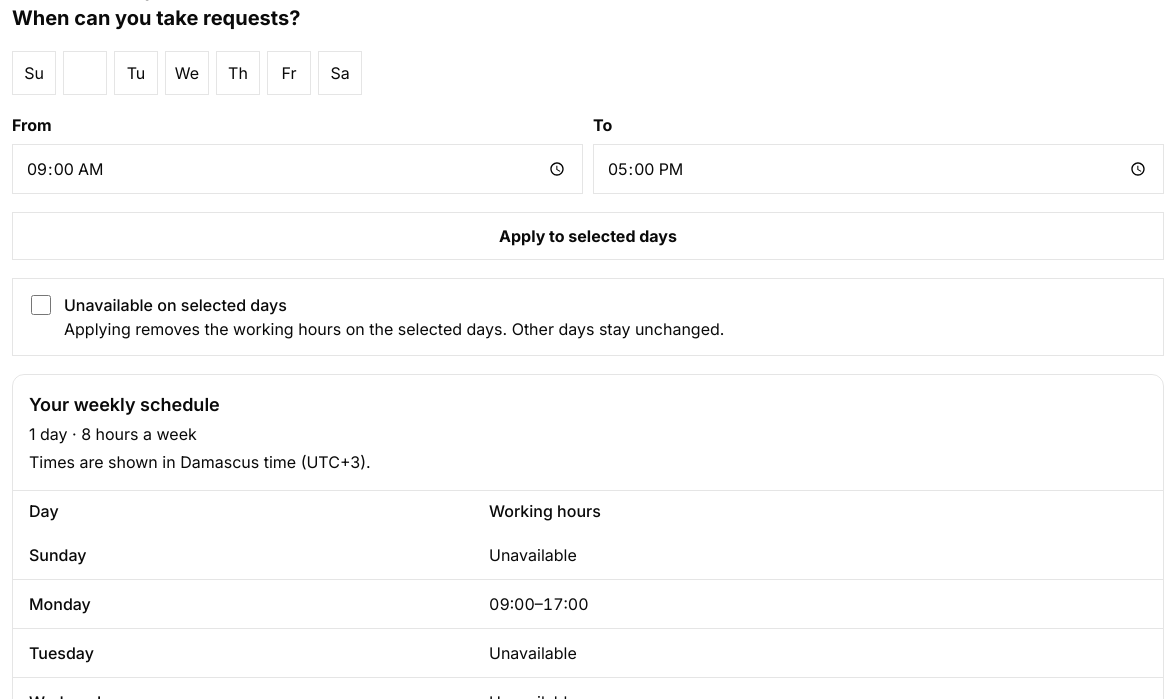
Test: working hours — the applied week belongs to the provider until it is acknowledged › an older answer arriving after the acknowledgement does not restore the old week
Expected: the row with test id "availability-summary-day-1" is shown, top-left (13, 580), bottom-right (1163, 628)
Click the button "Tu". click: (136, 73)
box: top-left (114, 51), bottom-right (158, 95)
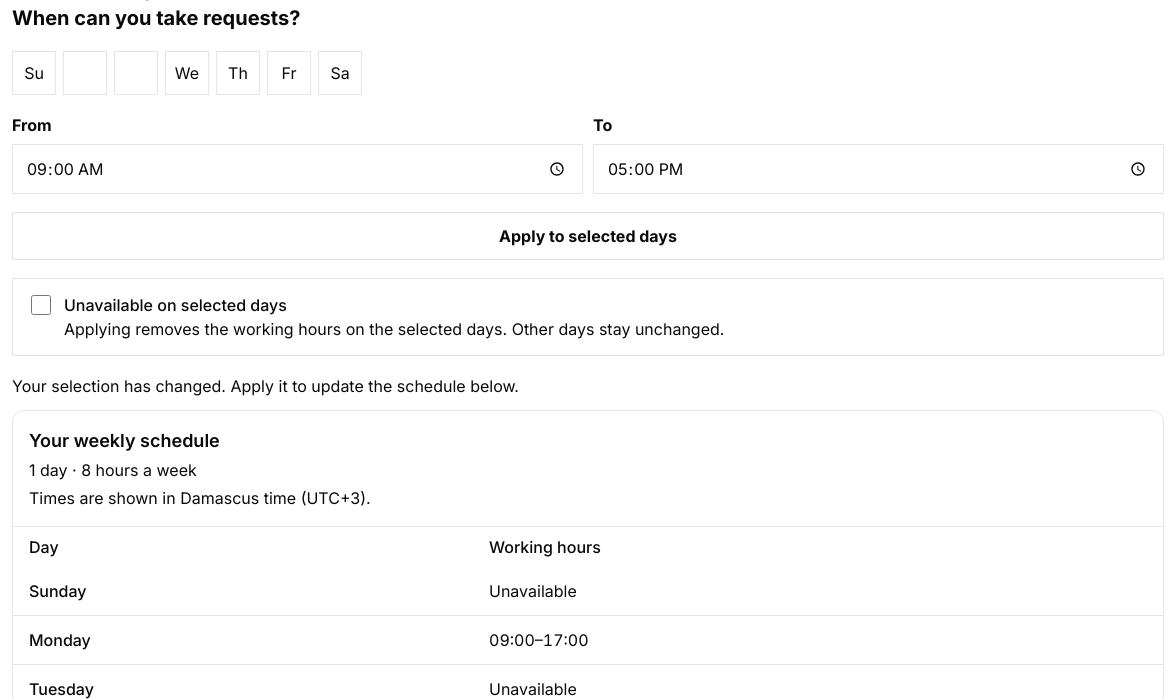
Click the button with test id "apply-to-selected". click: (588, 236)
box: top-left (12, 212), bottom-right (1164, 260)
(page scrolled)
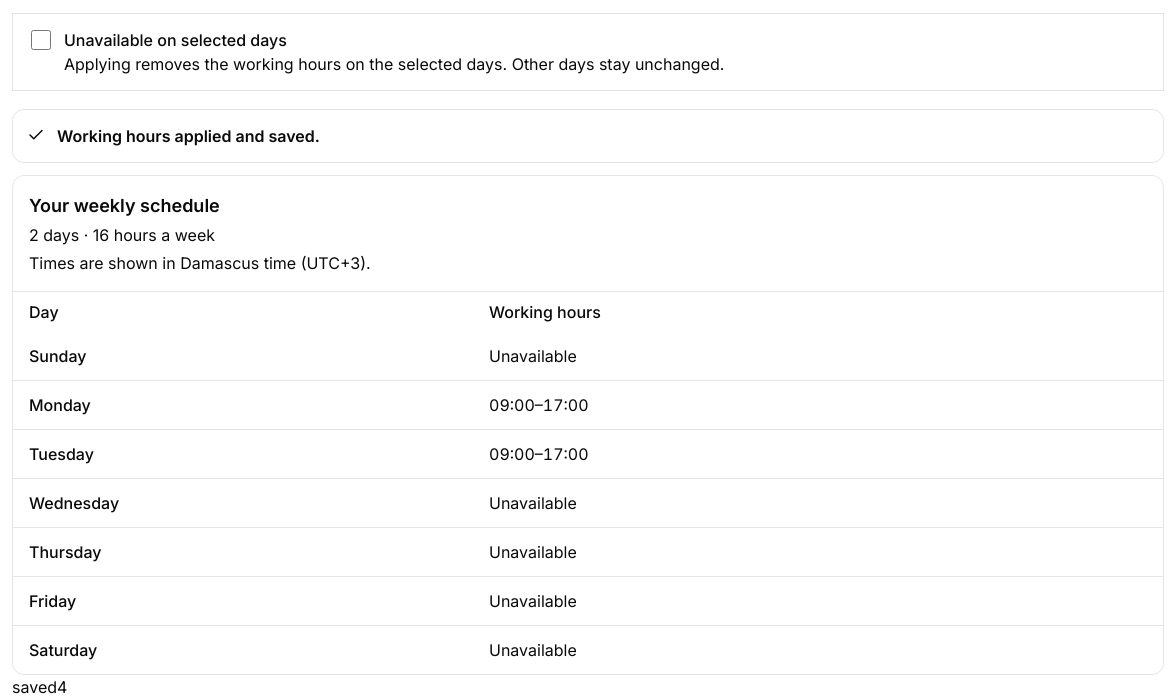
Expected: the text with test id "save-state" reads "saved", top-left (12, 677), bottom-right (57, 697)
Expected: the text with test id "draft-version" reads "4", top-left (57, 677), bottom-right (67, 697)
